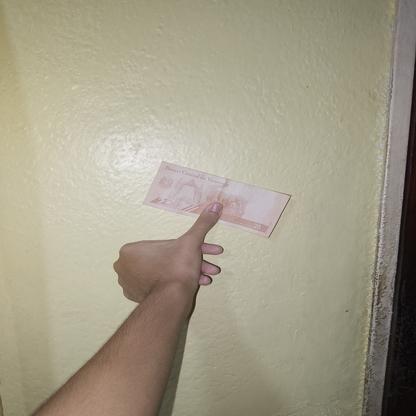twenty-back-vef: (142, 160, 290, 238)
